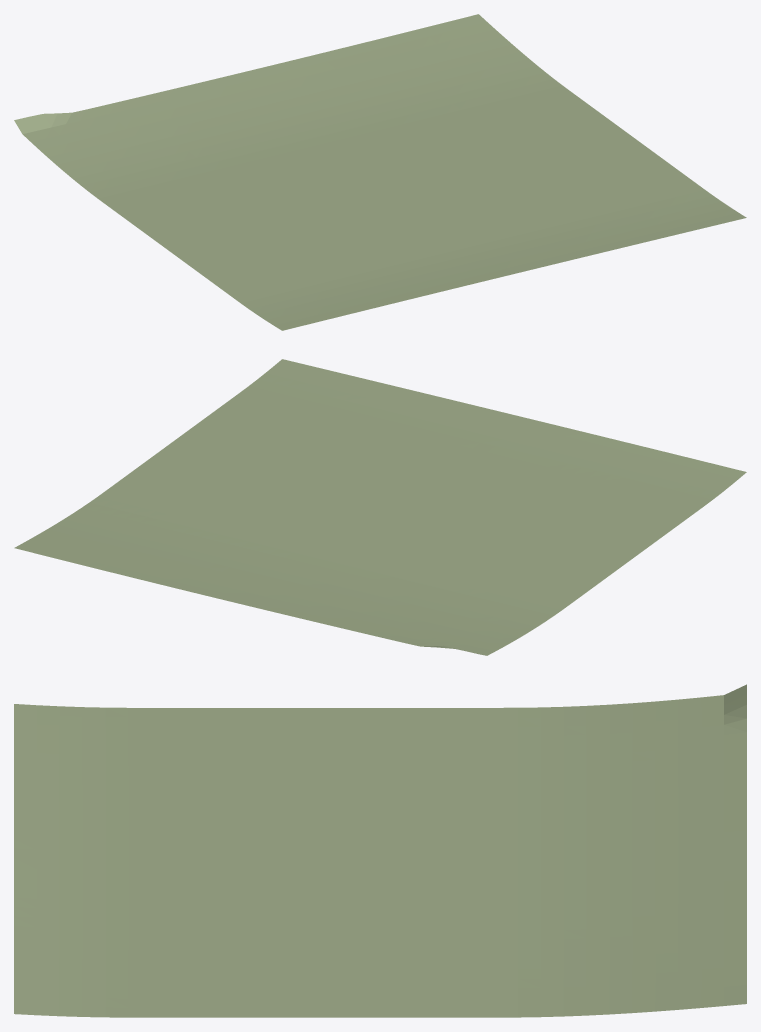
The model's file is valley-8-7.glb.
3 renders of one model, top to bottom at view 1: azimuth 30°, elevation 25°; view 2: azimuth 150°, elevation 25°; view 3: azimuth 270°, elevation 25°, orthographic. The views are drawn at different scales.
Visible parts, largest first — view 1: valley-8-7; view 2: valley-8-7; view 3: valley-8-7.
Part boxes in pixels (<box>): valley-8-7: <box>14,14,746,330</box>; valley-8-7: <box>14,359,746,655</box>; valley-8-7: <box>14,684,746,1017</box>.
Bounding box in the file's own units: 256 × 9.05 × 256.
